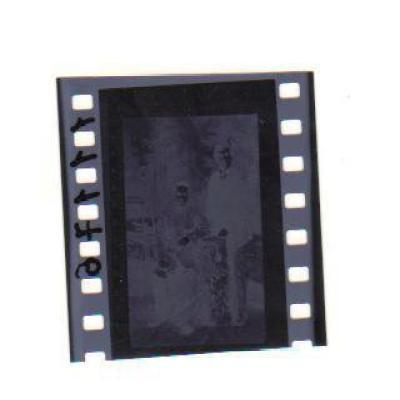photos_negatives: (101, 78, 284, 354)
